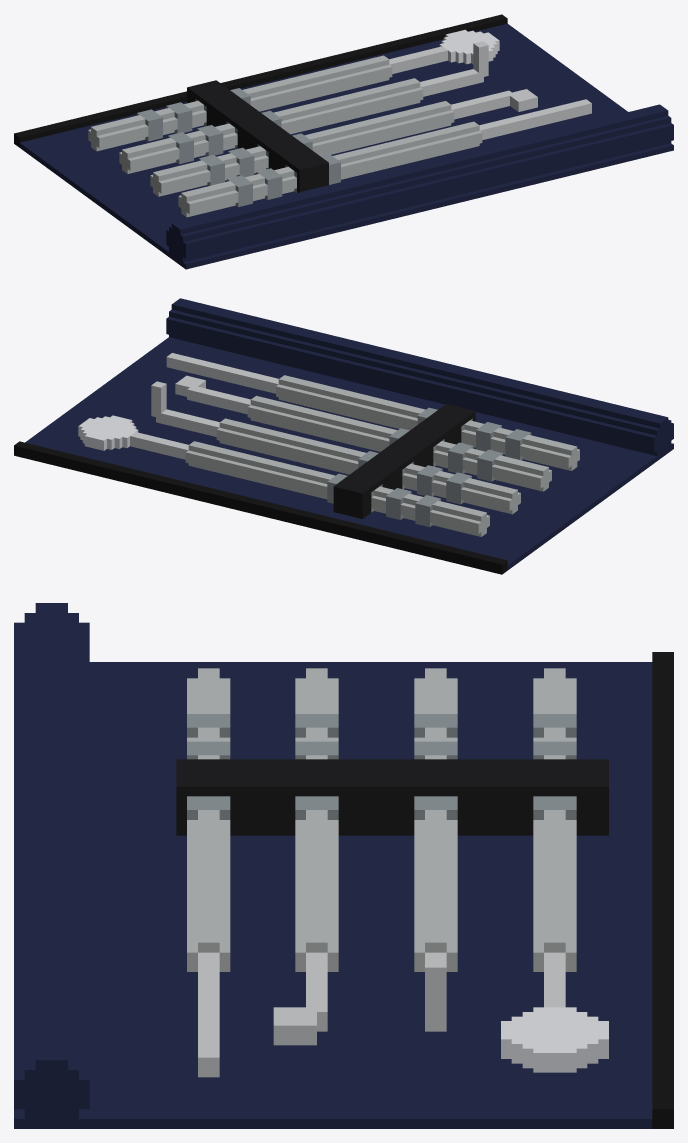
Rendered from dental_tools.glb.
3 renders of one model, top to bottom at view 1: azimuth 30°, elevation 25°; view 2: azimuth 150°, elevation 25°; view 3: azimuth 270°, elevation 25°, orthographic. The views are drawn at different scales.
Parts seen in each view (by area): view 1: dental_tools:compound; view 2: dental_tools:compound; view 3: dental_tools:compound.
Boxes of the visible parts, x1,y1,x2,y2 form: dental_tools:compound: [14, 14, 673, 269]; dental_tools:compound: [14, 298, 673, 574]; dental_tools:compound: [14, 603, 673, 1128].
Bounding box in the file's own units: 0.2 × 0.018 × 0.122.
